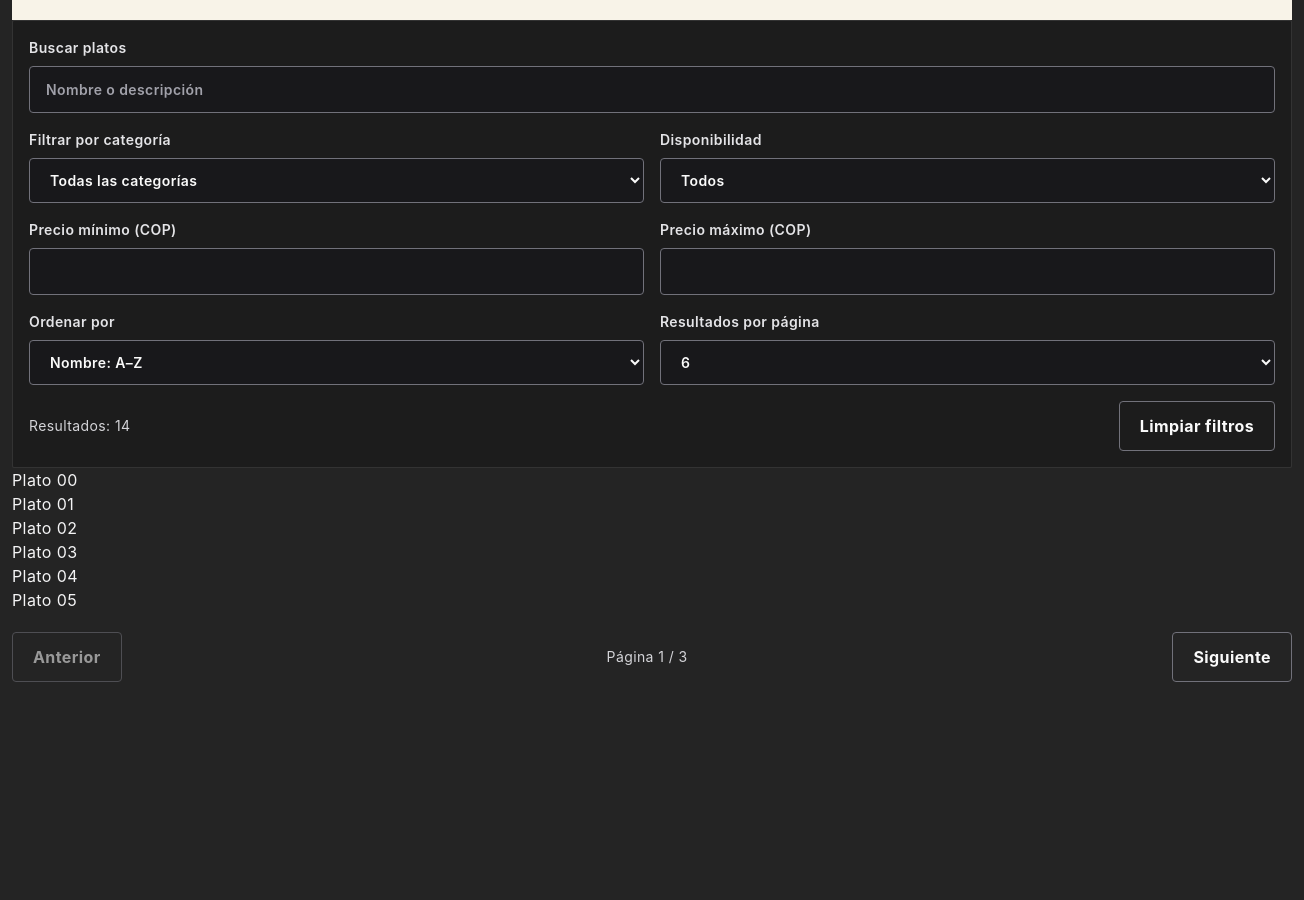
resets pagination when changing and restoring Buscar platos
Click the button "Siguiente" at (1232, 657), box top-left (1172, 632), bottom-right (1292, 682)
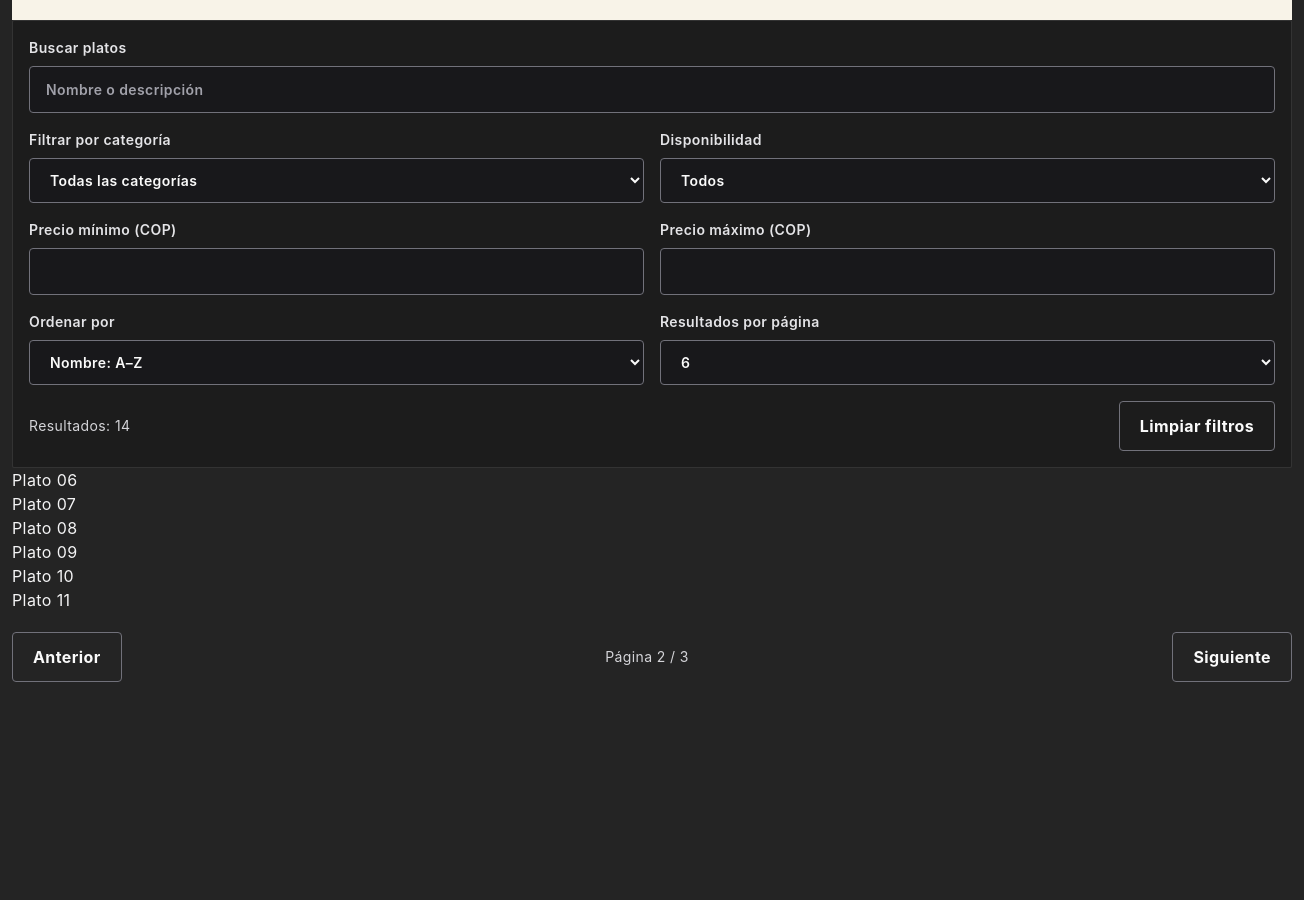
Now the text "Página 2 / 3" is shown, box top-left (605, 647), bottom-right (689, 667)
Type "Plato 13" into the search field labelled "Buscar platos" at (652, 90), box top-left (29, 66), bottom-right (1275, 113)
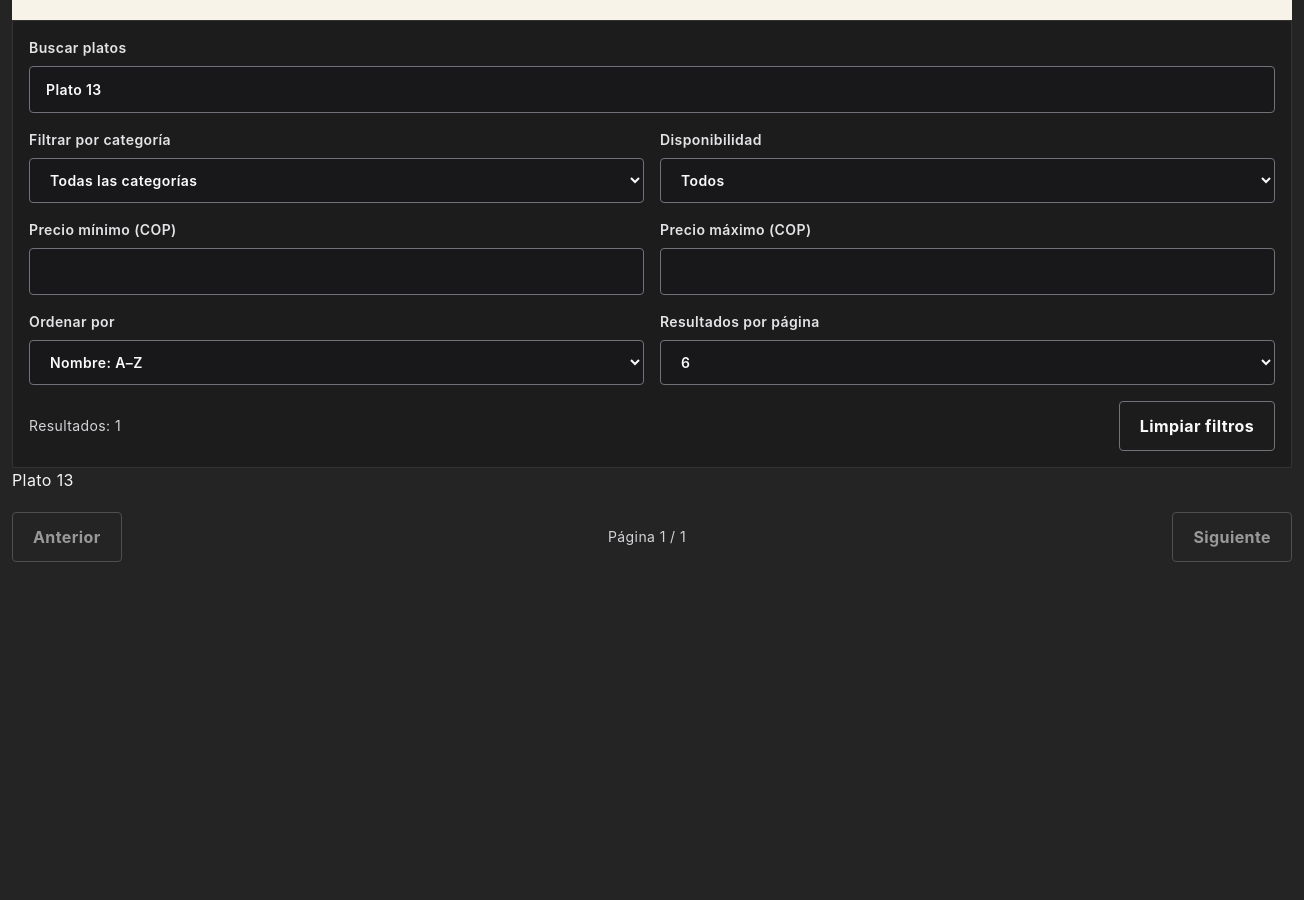
Now the text "Página 1 / 1" is shown, box top-left (608, 527), bottom-right (686, 547)
Clear the search field labelled "Buscar platos" at (652, 90), box top-left (29, 66), bottom-right (1275, 113)
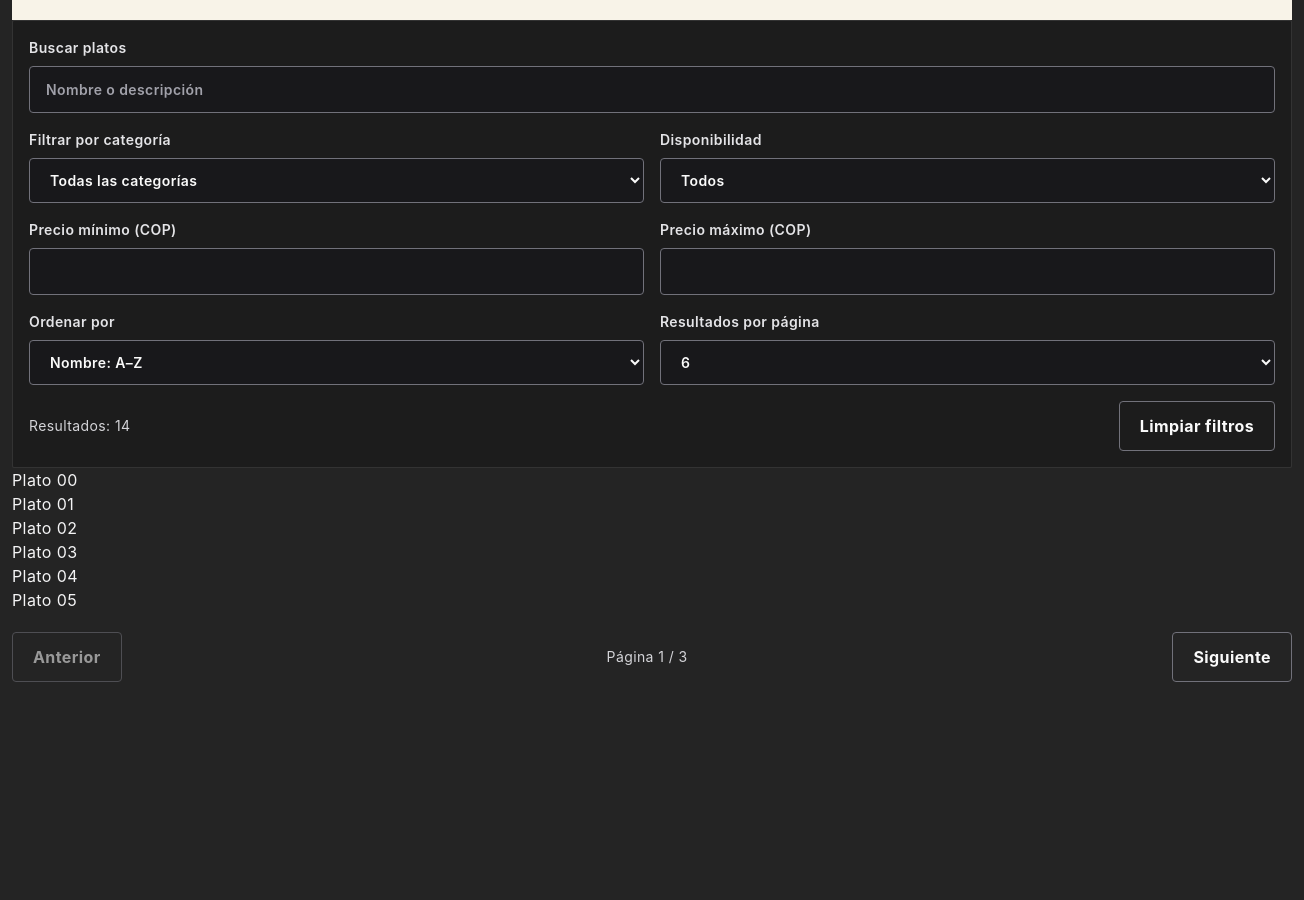
Now the text "Página 1 / 3" is shown, box top-left (606, 647), bottom-right (688, 667)
